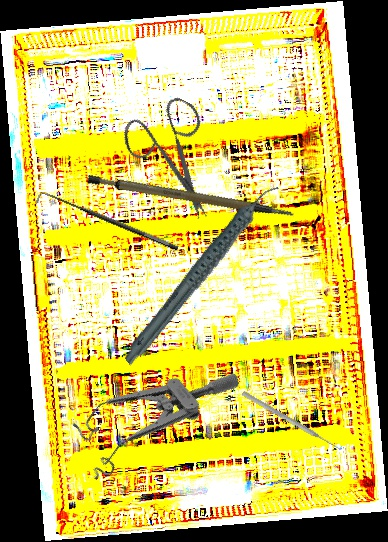Handpiece: (93, 181, 312, 368)
Hook Surgical: (34, 185, 180, 262)
Iris Scissors: (103, 82, 251, 223)
Pusher: (240, 389, 344, 454)
Scalpel Handle: (84, 147, 298, 251)
Speculum: (57, 323, 244, 495)
